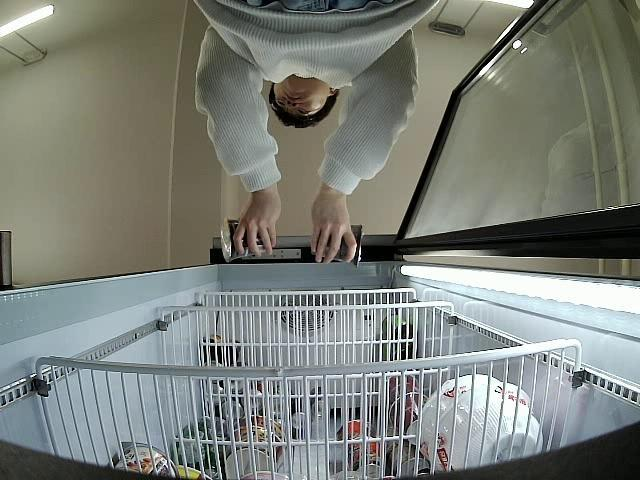08_buldak_S: (315, 221, 365, 267), (220, 216, 255, 262)
